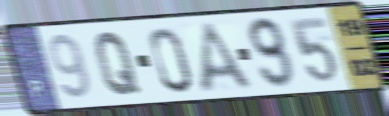0: (146, 24, 196, 95)
5: (286, 14, 342, 85)
9: (245, 14, 298, 92), (46, 30, 94, 102)
A: (199, 19, 259, 95)
Q: (93, 29, 143, 98)
